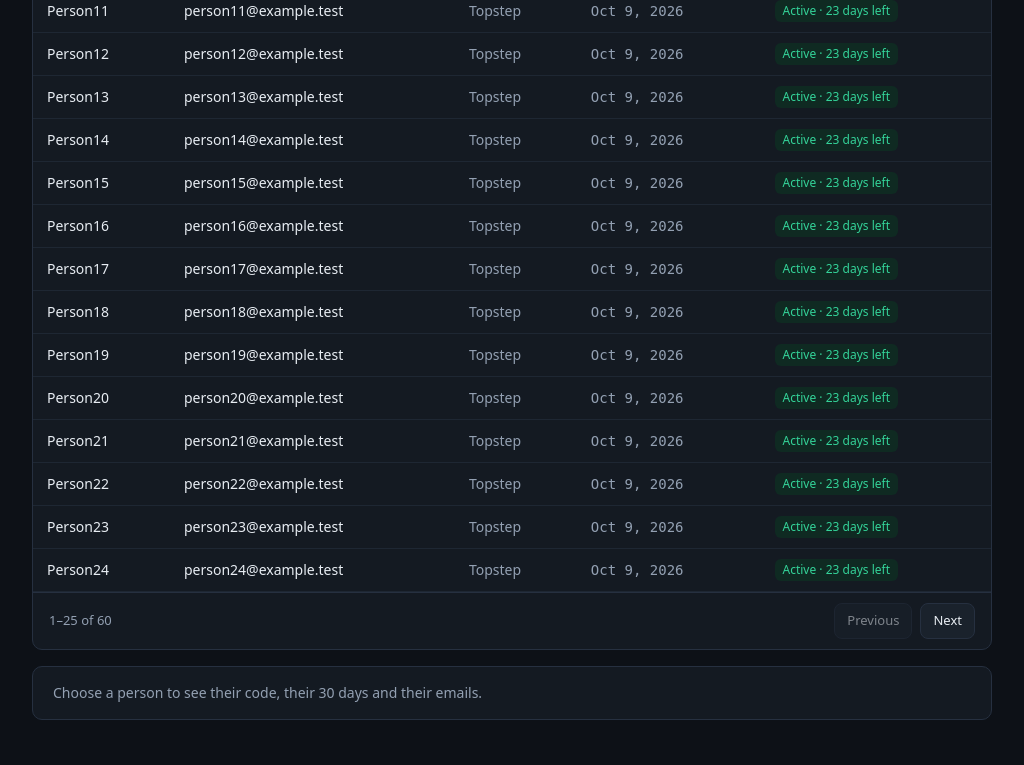
the list › goes back to the first page when the state changes
(page scrolled)
Click the button "Next". click: {"x": 948, "y": 621}
box: [920,603,975,639]
(page scrolled)
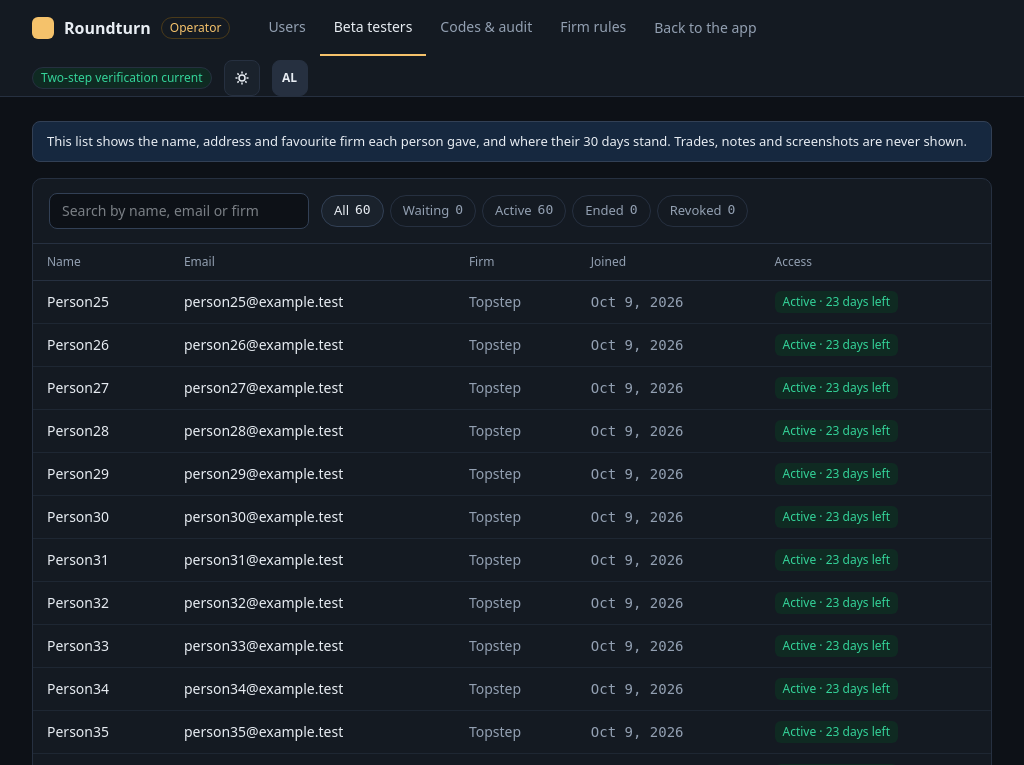
Click the button "Active 60". click: {"x": 524, "y": 211}
box: [482,195,566,227]
(page scrolled)
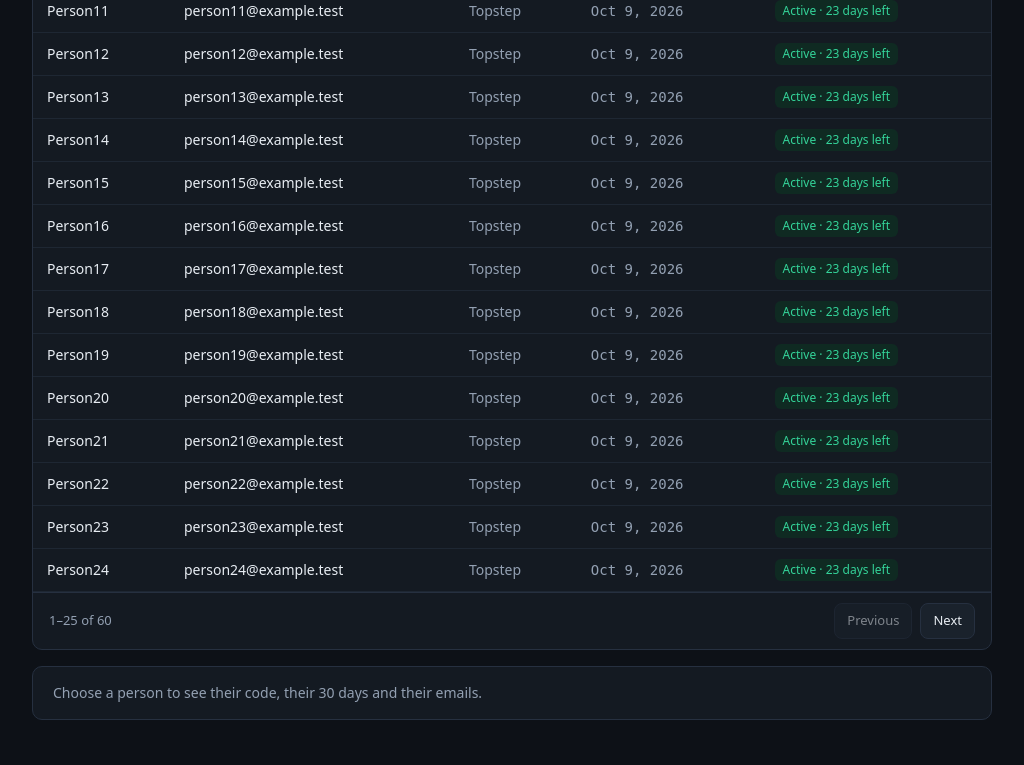
Now the text "1–25 of 60" is shown, box [49,611,112,630]
